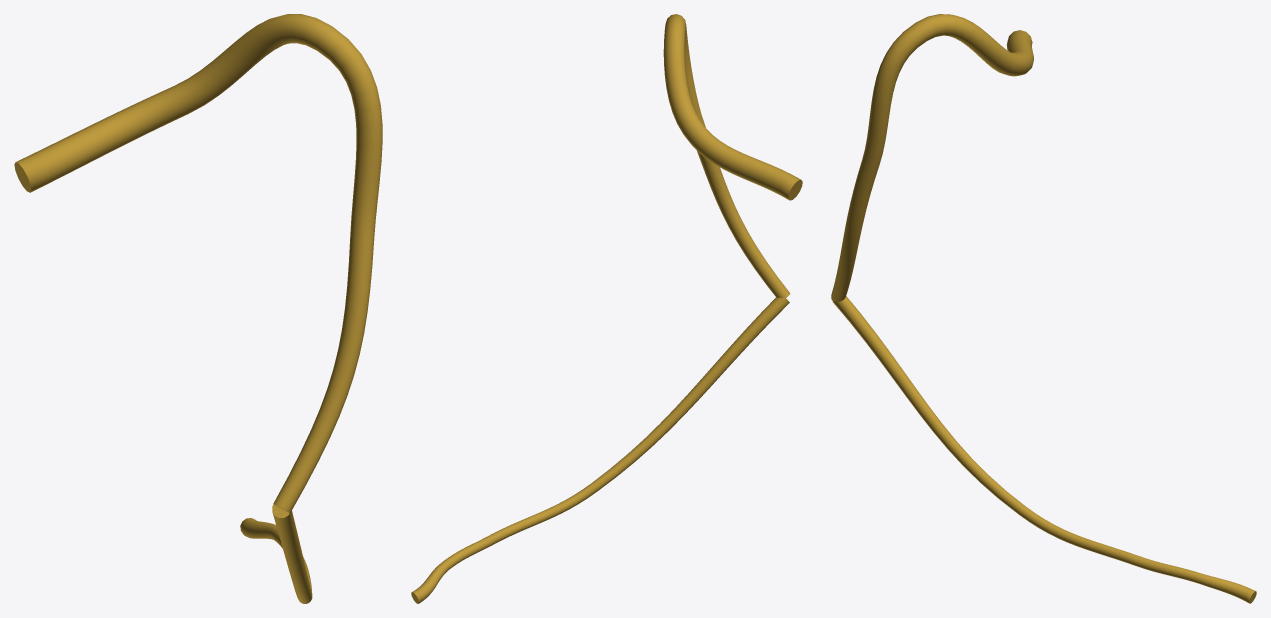
3 views of the same model, side by side, from view 1: azimuth 30°, elevation 25°; view 2: azimuth 150°, elevation 25°; view 3: azimuth 270°, elevation 25° (orthographic). The views are drawn at different scales.
Parts seen in each view (by area): view 1: 左侧三叉神经; view 2: 左侧三叉神经; view 3: 左侧三叉神经.
Boxes of the visible parts, x1=… form: 左侧三叉神经: x1=14, y1=14, x2=382, y2=603; 左侧三叉神经: x1=411, y1=14, x2=802, y2=603; 左侧三叉神经: x1=831, y1=14, x2=1256, y2=603.
Size of the model in its own units: 0.0276 by 0.0476 by 0.0346.
